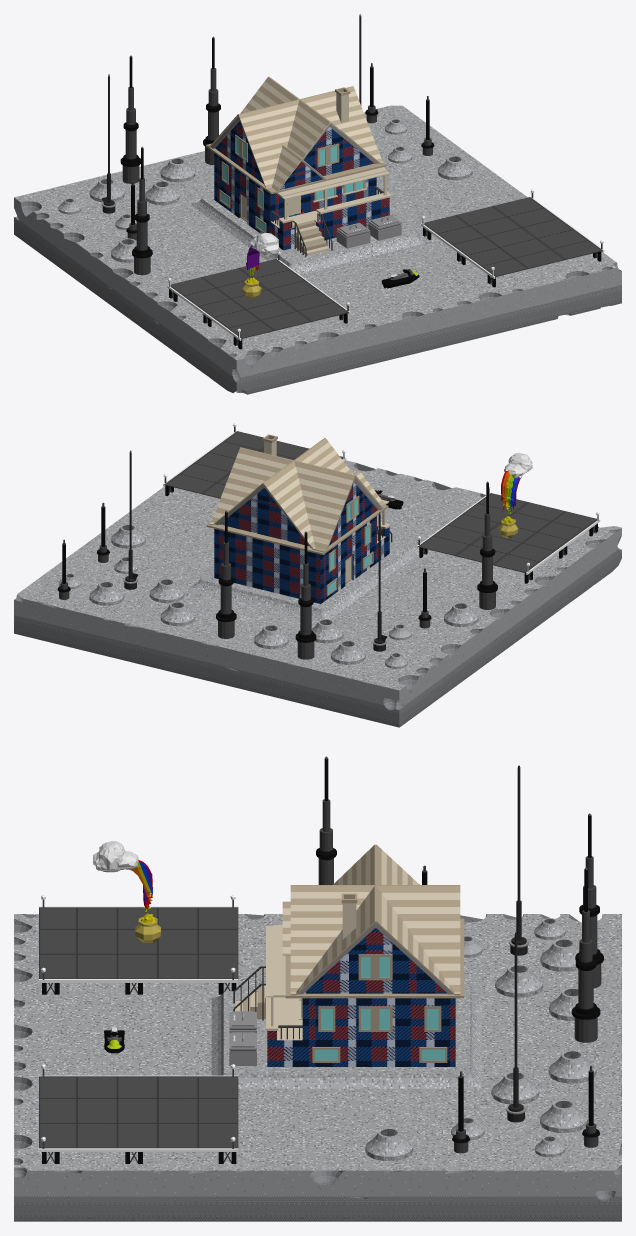
3 views of the same model, one above another, from view 1: azimuth 30°, elevation 25°; view 2: azimuth 150°, elevation 25°; view 3: azimuth 270°, elevation 25° (orthographic). The views are drawn at different scales.
Visible parts, largest first — view 1: Cube.027, Cube.171, Cube.026, Cube.025, Cube.028, Cylinder.020, Cylinder.021, OBJRANDOM_RAINBOW, Cylinder.017, Cube.029, Cube.030, Cylinder.027 (+3 smaller); view 2: Cube.027, Cube.171, Cube.025, Cube.028, Cube.026, OBJRANDOM_RAINBOW, Cylinder.020, Cylinder.021, Cylinder.017, Cylinder.031, Cylinder.028, Cylinder.029 (+7 smaller); view 3: Cube.027, Cube.171, Cube.026, Cube.025, Cube.028, Cylinder.017, OBJRANDOM_RAINBOW, Cylinder.020, Cylinder.021, Cylinder.033, Cylinder.031, Cylinder.029 (+9 smaller).
Boxes of the visible parts, x1,y1,x2,y2 form: Cube.027: [14, 105, 621, 394]; Cube.171: [205, 76, 392, 256]; Cube.026: [421, 189, 604, 287]; Cube.025: [167, 252, 350, 349]; Cube.028: [191, 195, 424, 274]; Cylinder.020: [120, 55, 140, 183]; Cylinder.021: [132, 146, 152, 275]; OBJRANDOM_RAINBOW: [242, 233, 279, 299]; Cylinder.017: [203, 36, 220, 164]; Cube.029: [336, 222, 370, 248]; Cube.030: [368, 215, 401, 240]; Cylinder.027: [160, 158, 195, 182]; Cube.027: [14, 460, 621, 727]; Cube.171: [206, 434, 392, 603]; Cube.025: [417, 485, 600, 583]; Cube.028: [190, 538, 419, 620]; Cube.026: [163, 423, 346, 498]; OBJRANDOM_RAINBOW: [499, 453, 532, 538]; Cylinder.020: [295, 531, 316, 659]; Cylinder.021: [477, 481, 497, 609]; Cylinder.017: [216, 510, 236, 638]; Cylinder.031: [89, 581, 124, 605]; Cylinder.028: [331, 640, 365, 664]; Cylinder.029: [160, 601, 195, 626]; Cube.027: [14, 914, 621, 1221]; Cube.171: [233, 844, 464, 1066]; Cube.026: [39, 1064, 238, 1163]; Cube.025: [39, 895, 238, 994]; Cube.028: [211, 991, 481, 1088]; Cylinder.017: [571, 867, 600, 1042]; OBJRANDOM_RAINBOW: [93, 841, 160, 942]; Cylinder.020: [575, 813, 603, 988]; Cylinder.021: [316, 756, 336, 884]; Cylinder.033: [365, 1128, 413, 1160]; Cylinder.031: [540, 1100, 587, 1132]; Cylinder.029: [548, 1050, 596, 1083].
Size of the model in its own units: 4000 by 1799 by 4000.
Materials: 29 (5 with a texture image).
